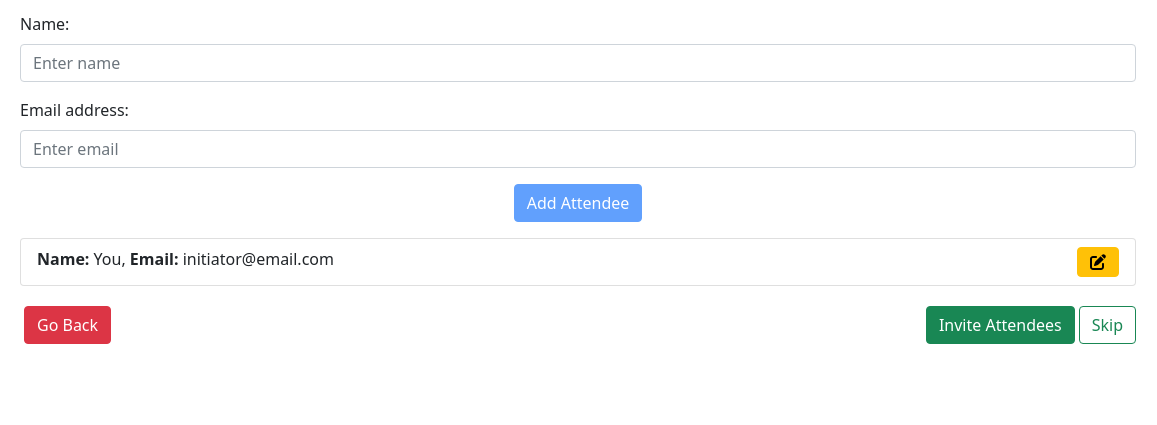
Test: <AttendeeForm /> › should load user data into form and add attendee to list
Type "test@email.com" into the field labelled "Email address:".
click(578, 149); type("test@email.com")  # box [20, 130, 1136, 168]
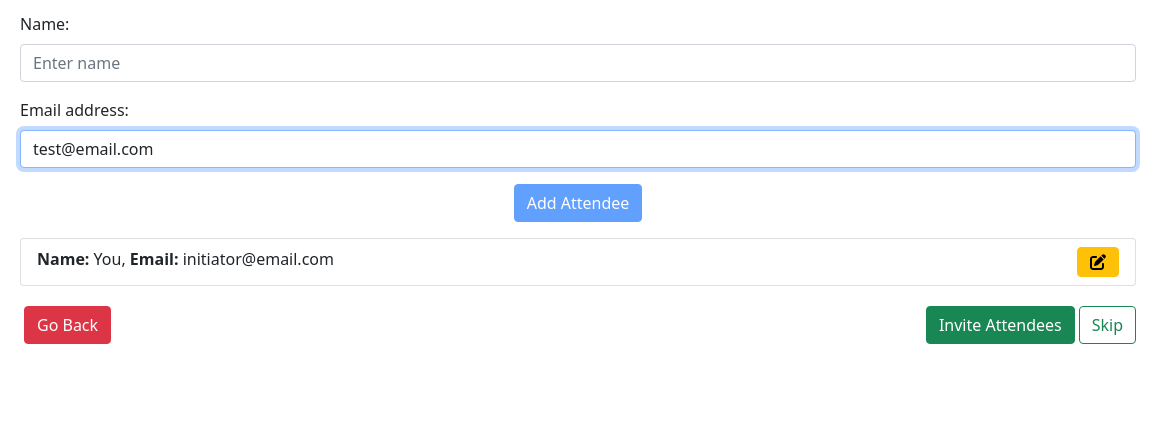
Type "test" into the field labelled "Name:".
click(578, 63); type("test")  # box [20, 44, 1136, 82]
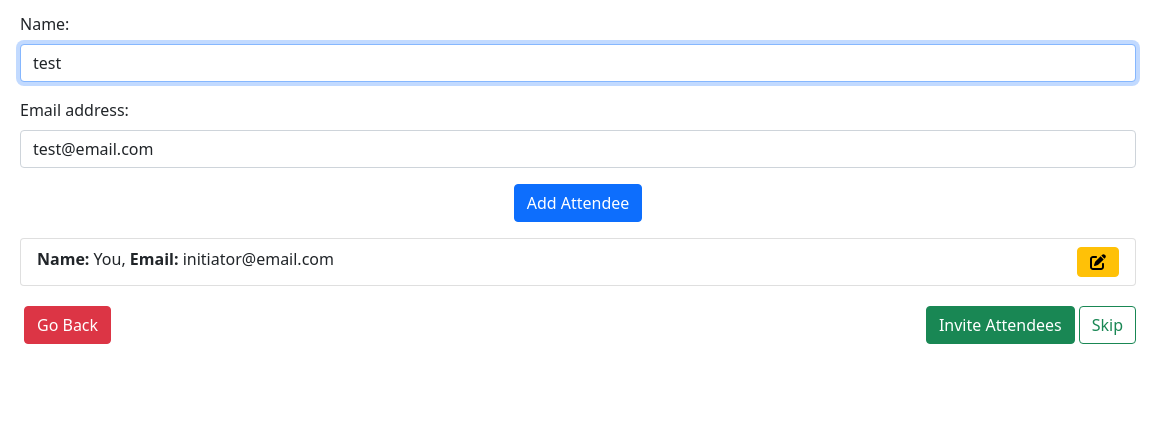
Click the button "Add Attendee".
click(578, 203)  # box [514, 184, 642, 222]
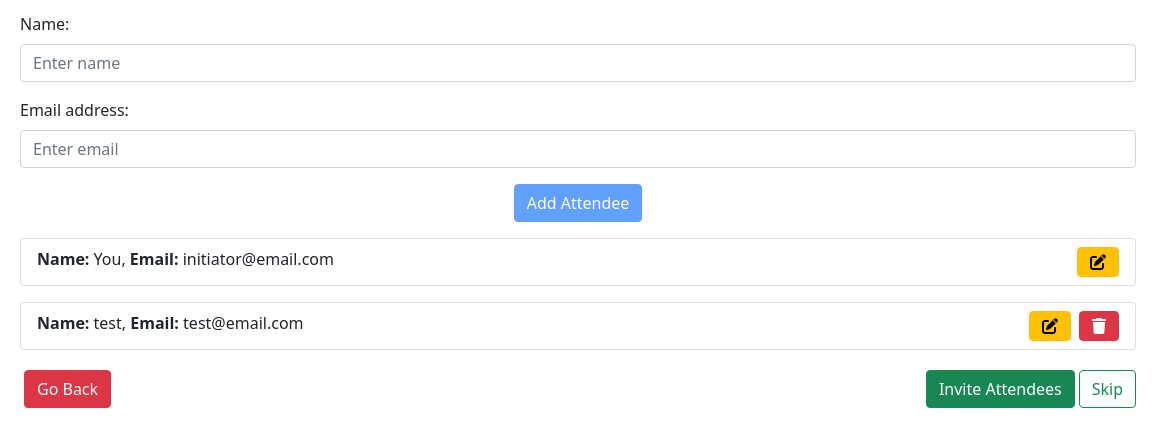
Now the text "Name: test, Email: test@email.com" is shown, box [37, 312, 304, 334]
